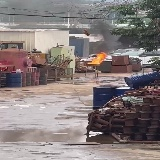fire: (87, 52, 106, 64)
